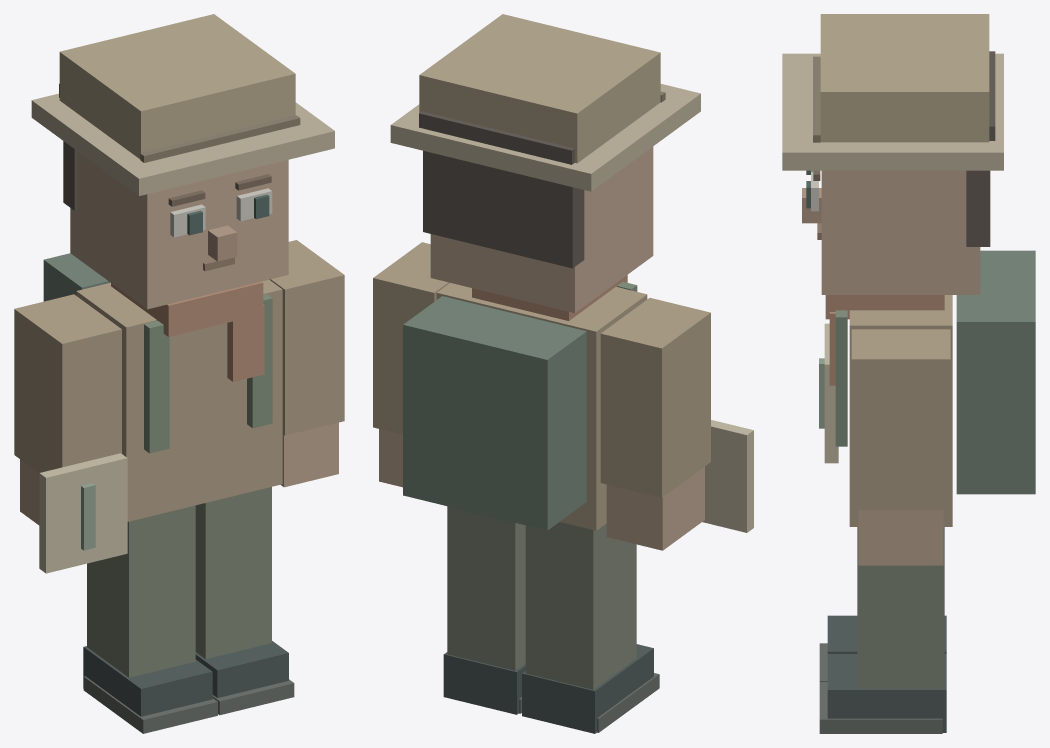
File: character_explorer.glb
3 renders of one model, left to right at view 1: azimuth 30°, elevation 25°; view 2: azimuth 150°, elevation 25°; view 3: azimuth 270°, elevation 25°, orthographic. The views are drawn at different scales.
Visible parts, largest first — view 1: character_explorer; view 2: character_explorer; view 3: character_explorer.
Boxes of the visible parts, bbox=[...] form: character_explorer: bbox=[14, 14, 344, 733]; character_explorer: bbox=[373, 14, 753, 733]; character_explorer: bbox=[782, 14, 1035, 733].
Size of the model in its own units: 1.88 by 3.58 by 1.28.
